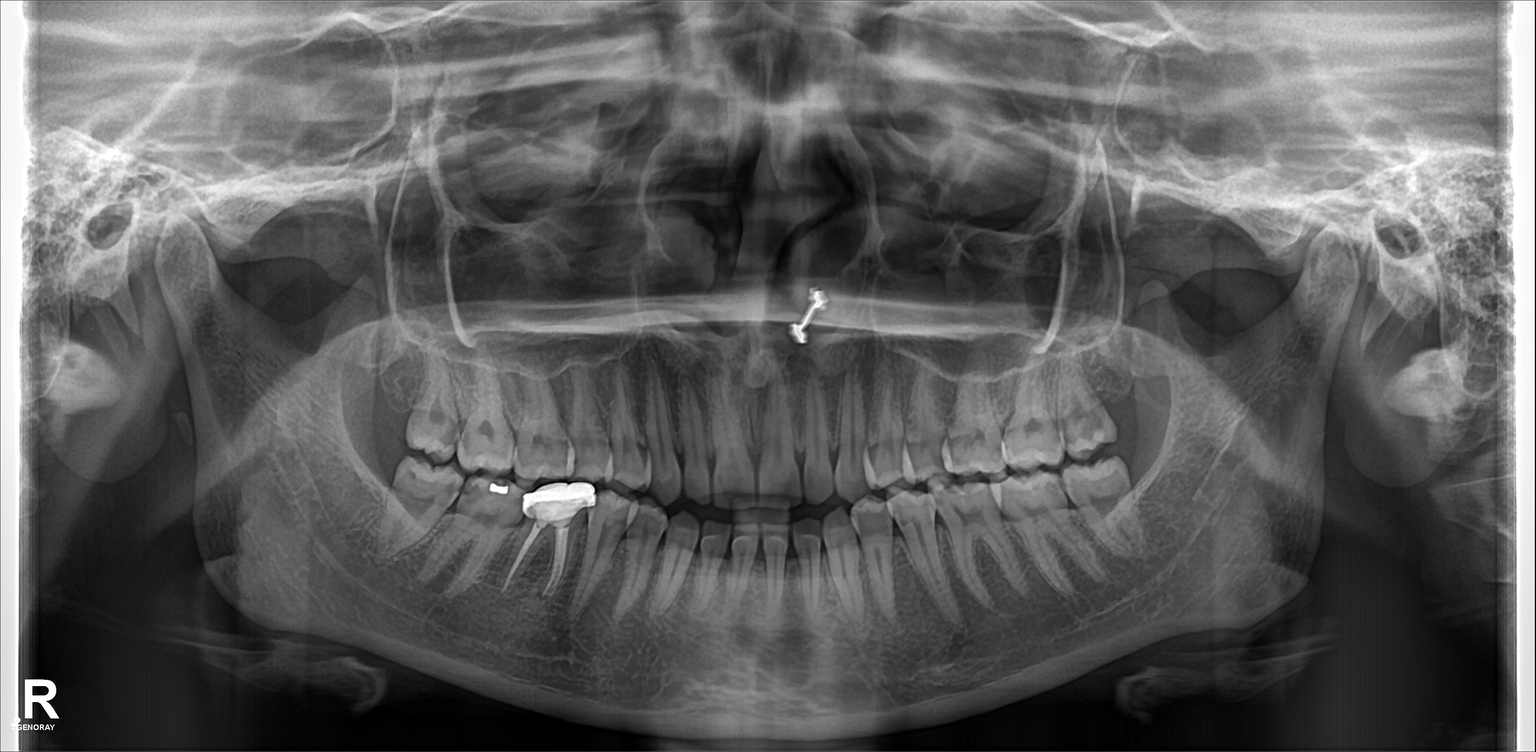Endodontically Treated Tooth: (518, 486, 581, 591)
Missing Tooth: (1102, 354, 1155, 429), (372, 352, 410, 442), (359, 439, 398, 524)
Retained Root: (760, 530, 797, 612)
